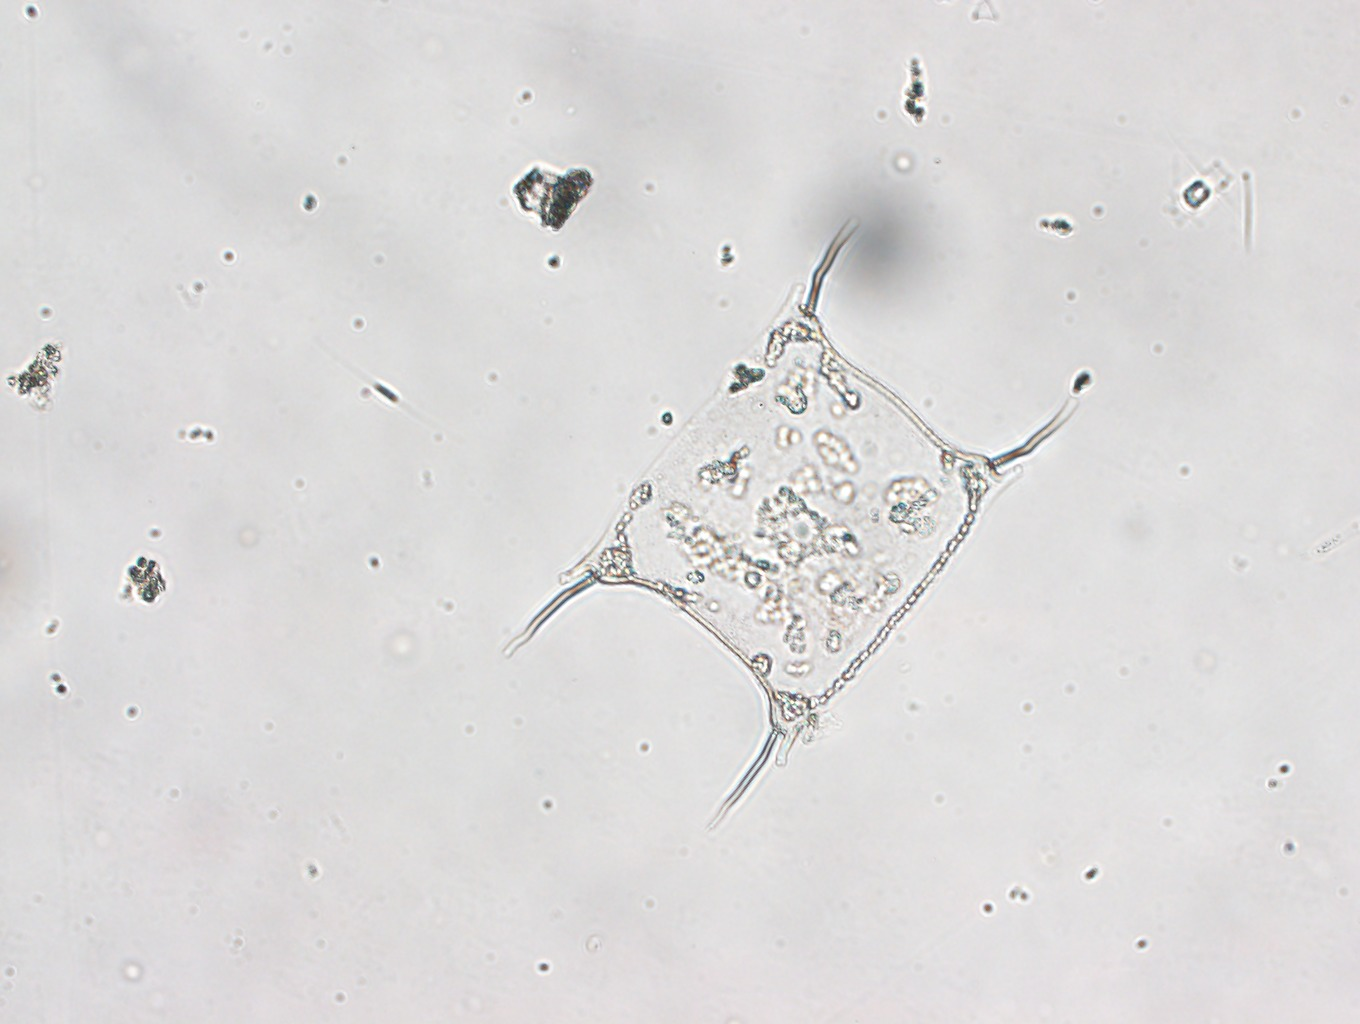biddulphia: (495, 213, 1080, 830)
